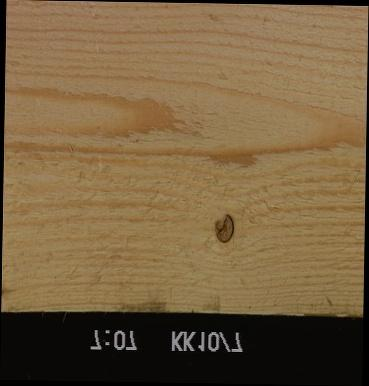dry_knot: (213, 212, 235, 244)
